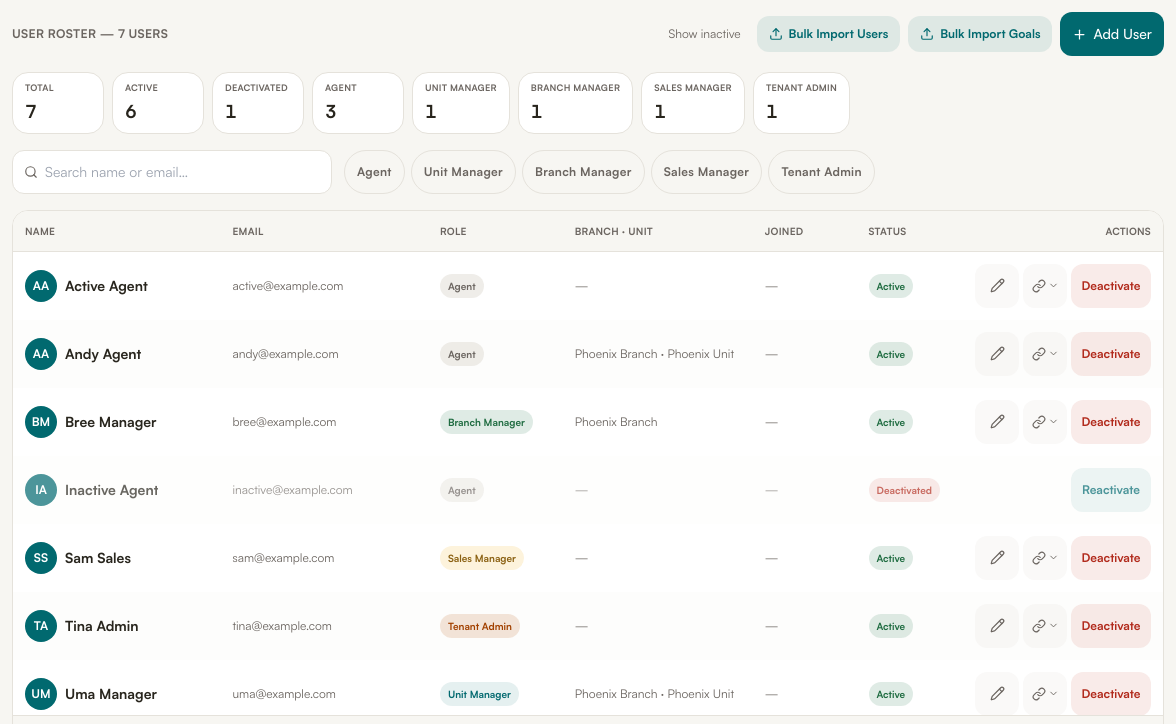
Scenario: UserManagementPanel — roster v2 (Tier-4 #17: stat strip, search, role filters, RoleChip, Branch·Unit) › search with no matches shows the empty state with a Clear filters affordance
Expected: the text "Andy Agent" is shown, [65,344,141,364]
Type "nobody-matches-this" into the field with test id "user-search-input" at (172, 172), box [12,150,332,194]
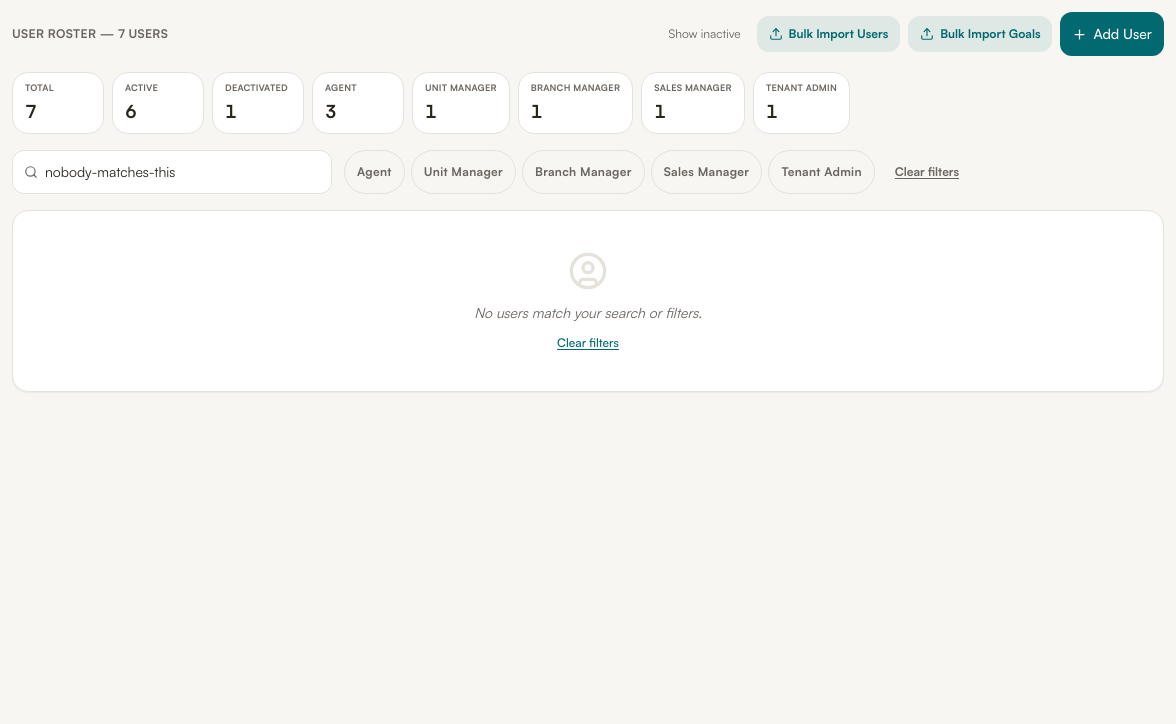
Now the element with test id "user-roster-empty-filtered" is shown, box [12,210,1164,392]
Now the text "No users match your search or filters." is shown, box [474,302,702,322]
Click the button with test id "user-clear-filters-empty" at (588, 342), box [557,334,619,350]
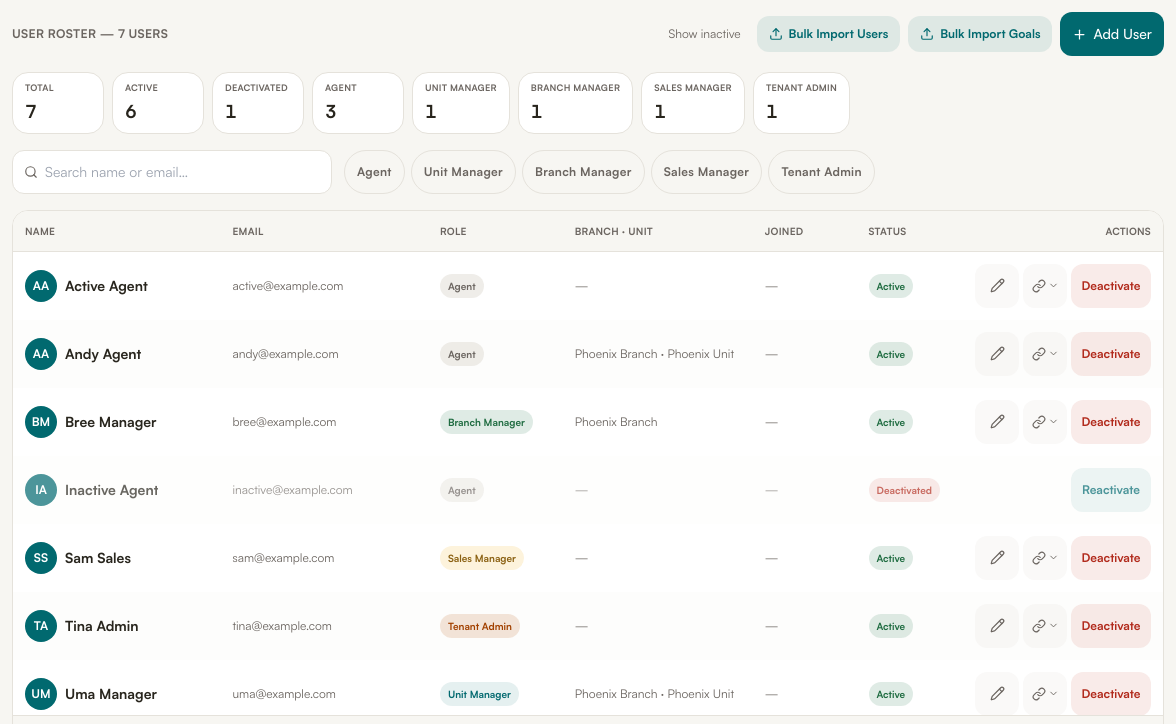
Now the text "Andy Agent" is shown, box [65,344,141,364]
Now the field with test id "user-search-input" is empty, box [12,150,332,194]
